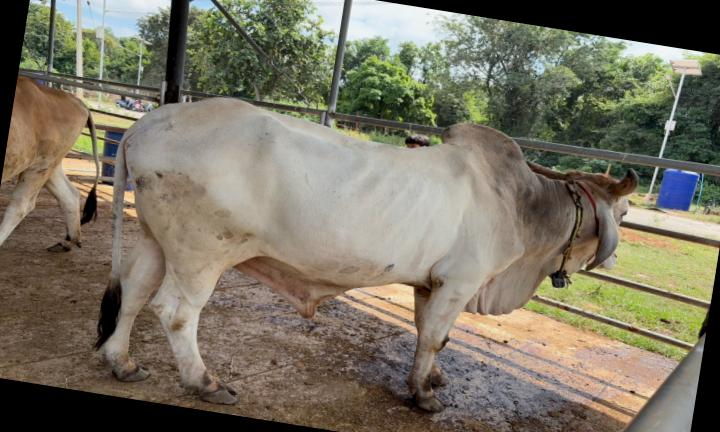Brahman: (94, 98, 638, 411)
